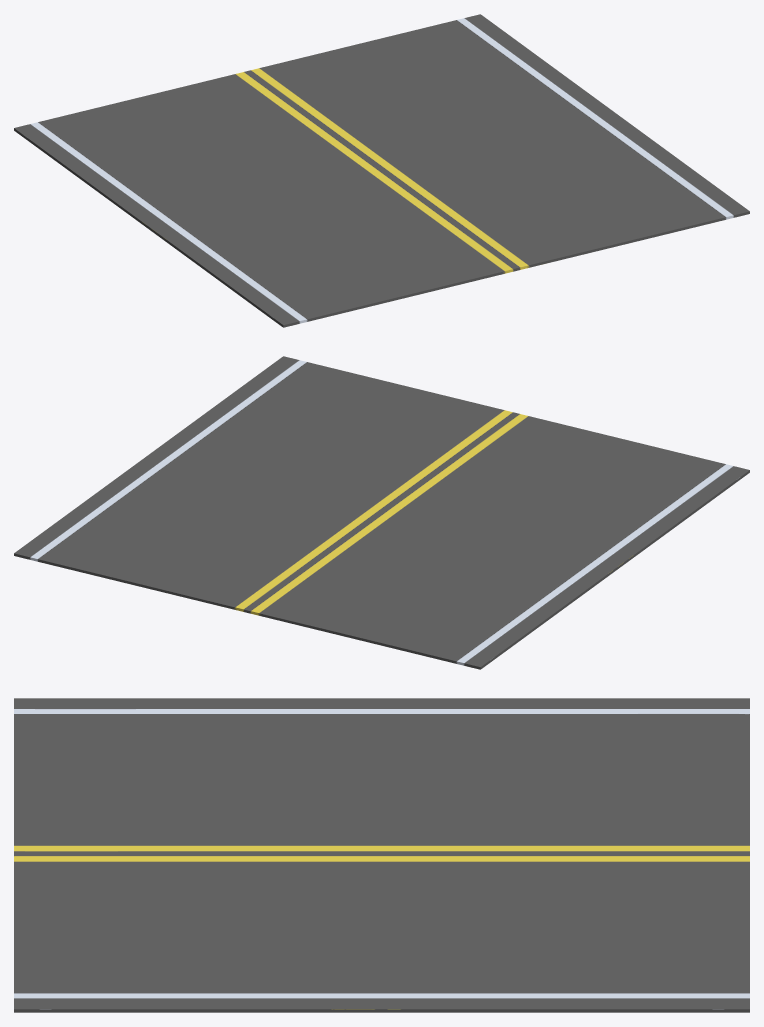
File: roadstraight.glb
3 views of the same model, one above another, from view 1: azimuth 30°, elevation 25°; view 2: azimuth 150°, elevation 25°; view 3: azimuth 270°, elevation 25° (orthographic). The views are drawn at different scales.
Visible parts, largest first — view 1: Plane; view 2: Plane; view 3: Plane.
Boxes of the visible parts, <box> form: Plane: <box>14,14,749,327</box>; Plane: <box>14,356,749,669</box>; Plane: <box>14,698,749,1012</box>.
Size of the model in its own units: 15 by 0.0792 by 15.
1 material, 1 textured.
